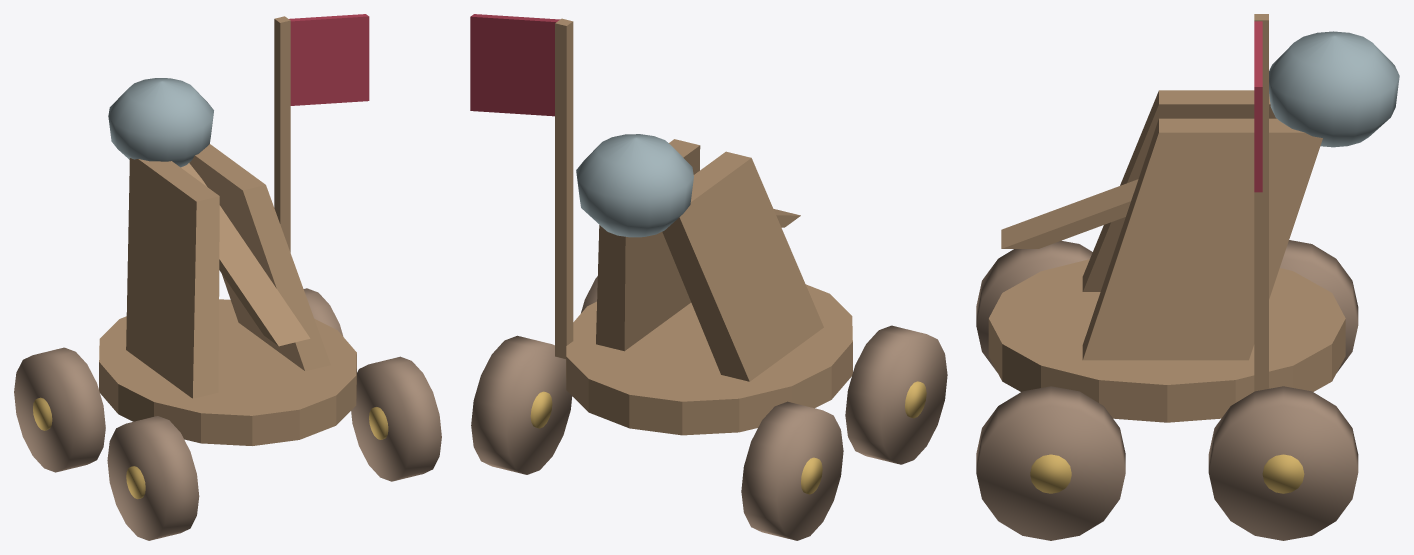
File: catapult.glb
3 views of the same model, side by side, from view 1: azimuth 30°, elevation 25°; view 2: azimuth 150°, elevation 25°; view 3: azimuth 270°, elevation 25° (orthographic). The views are drawn at different scales.
Visible parts, largest first — view 1: Siege deck, A frame, A frame.001, Wheel carved rim, Wheel carved rim.001, Wheel carved rim.002, Sling stone, Regional siege banner, Throwing arm, Flagpole, Wheel carved rim.003, Wheel hub (+2 smaller); view 2: Siege deck, A frame, Wheel carved rim.001, Wheel carved rim, Wheel carved rim.003, Sling stone, A frame.001, Regional siege banner, Flagpole, Wheel hub.001, Wheel hub, Wheel hub.003; view 3: A frame.001, Siege deck, Wheel carved rim.003, Wheel carved rim.002, Sling stone, A frame, Flagpole, Throwing arm, Wheel carved rim, Wheel carved rim.001, Regional siege banner, Wheel hub.003 (+1 smaller).
Boxes of the visible parts, x1,y1,x2,y2 form: Siege deck: [99, 299, 356, 445]; A frame: [126, 158, 219, 398]; A frame.001: [189, 144, 330, 371]; Wheel carved rim: [107, 416, 199, 540]; Wheel carved rim.001: [14, 347, 105, 472]; Wheel carved rim.002: [351, 356, 441, 481]; Sling stone: [108, 78, 213, 167]; Regional siege banner: [289, 14, 369, 105]; Throwing arm: [181, 163, 310, 346]; Flagpole: [274, 16, 290, 252]; Wheel carved rim.003: [303, 288, 343, 336]; Wheel hub: [126, 466, 145, 499]; Siege deck: [566, 284, 852, 435]; A frame: [662, 151, 823, 381]; Wheel carved rim.001: [741, 401, 843, 540]; Wheel carved rim: [845, 325, 947, 464]; Wheel carved rim.003: [471, 335, 572, 474]; Sling stone: [576, 134, 693, 237]; A frame.001: [596, 139, 700, 351]; Regional siege banner: [470, 14, 559, 116]; Flagpole: [555, 18, 573, 358]; Wheel hub.001: [801, 457, 822, 494]; Wheel hub: [905, 381, 926, 418]; Wheel hub.003: [530, 391, 552, 428]; A frame.001: [1082, 118, 1322, 360]; Siege deck: [988, 259, 1345, 422]; Wheel carved rim.003: [1208, 386, 1358, 540]; Wheel carved rim.002: [976, 386, 1125, 540]; Sling stone: [1269, 31, 1399, 147]; A frame: [1082, 90, 1276, 291]; Flagpole: [1254, 14, 1268, 391]; Throwing arm: [1001, 179, 1138, 248]; Wheel carved rim: [976, 240, 1092, 372]; Wheel carved rim.001: [1280, 240, 1358, 372]; Regional siege banner: [1254, 21, 1262, 192]; Wheel hub.003: [1262, 454, 1304, 493].
Bounding box in the file's own units: 1.09 × 1.32 × 1.02.
